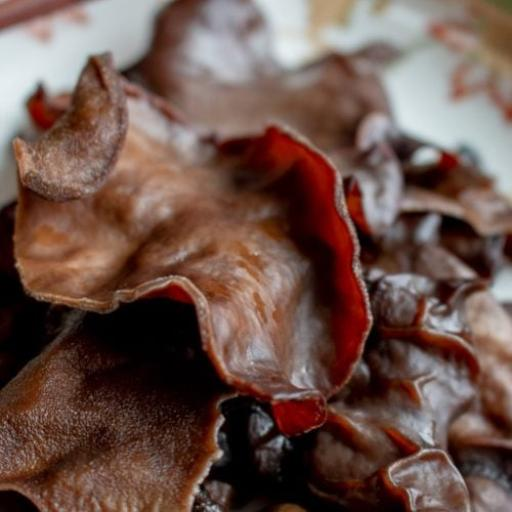Wood Ear Mushroom: (5, 55, 402, 442), (236, 272, 505, 511), (0, 290, 233, 511)
